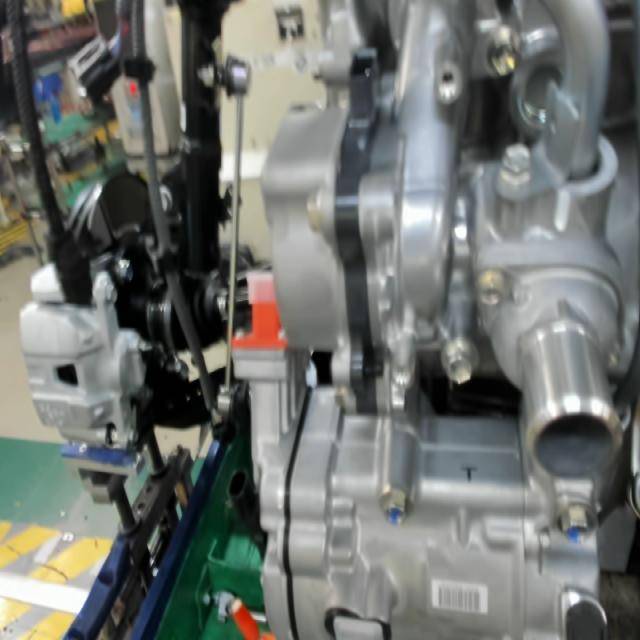Compressor-T: (458, 462, 479, 484)
